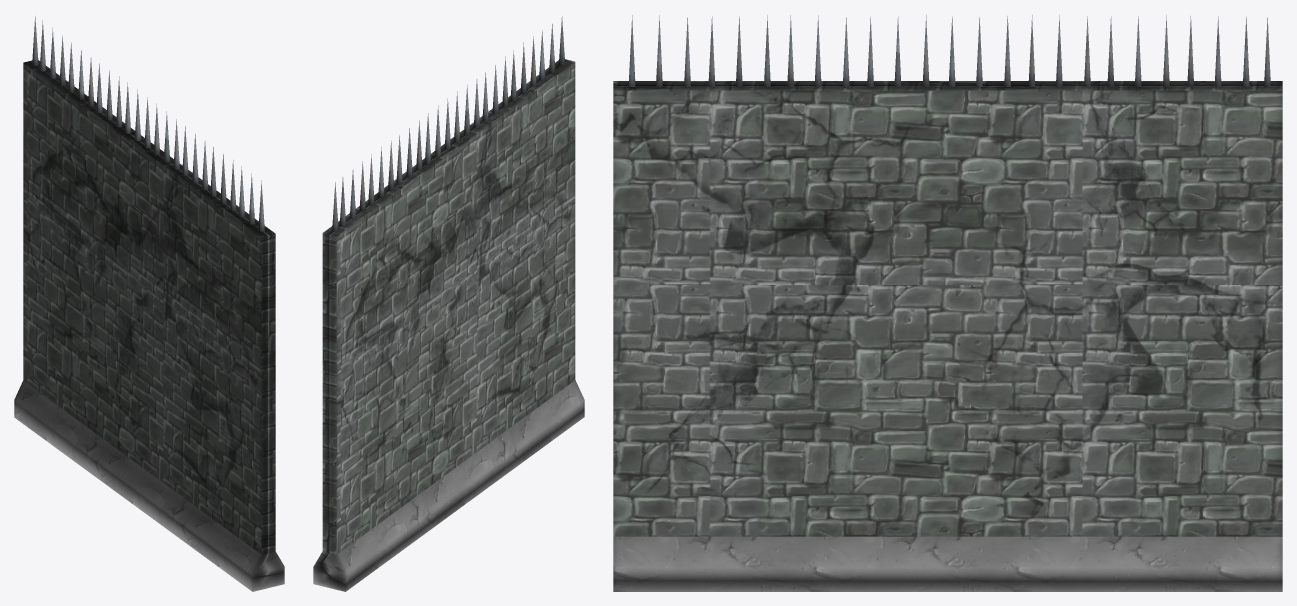
Rendered from Wall.fbx.
The picture shows the model from 3 angles, left to right: view 1: azimuth 30°, elevation 25°; view 2: azimuth 150°, elevation 25°; view 3: azimuth 270°, elevation 25°; orthographic projection. The views are drawn at different scales.
Visible parts, largest first — view 1: Cube_072; view 2: Cube_072; view 3: Cube_072.
Boxes of the visible parts, box(x1,y1,x2,y2) form: Cube_072: box(14, 16, 284, 591); Cube_072: box(313, 16, 584, 591); Cube_072: box(613, 15, 1282, 591).
Size of the model in its own units: 0.4363 by 5.24 by 5.61.
